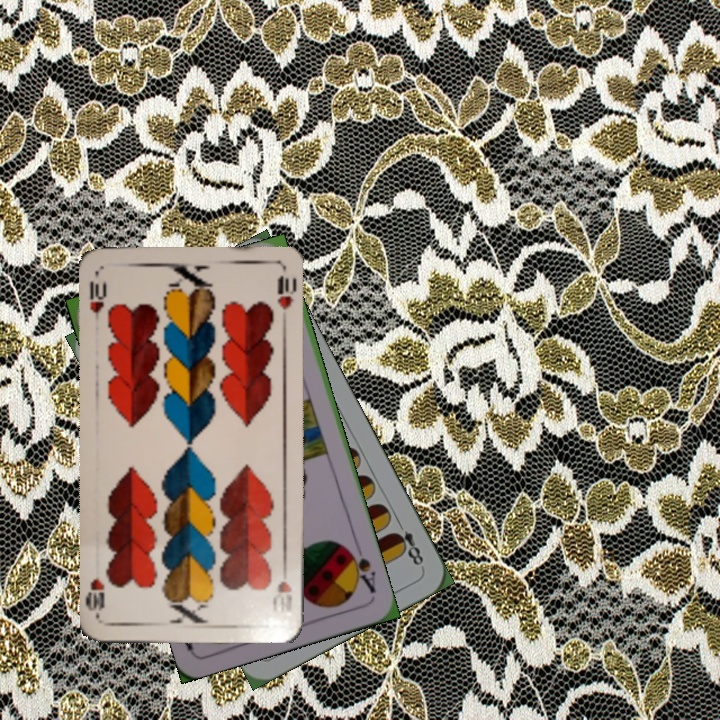E8: (388, 516, 427, 568)
H10: (270, 559, 294, 614), (86, 277, 109, 329)
SA: (342, 540, 379, 596)
